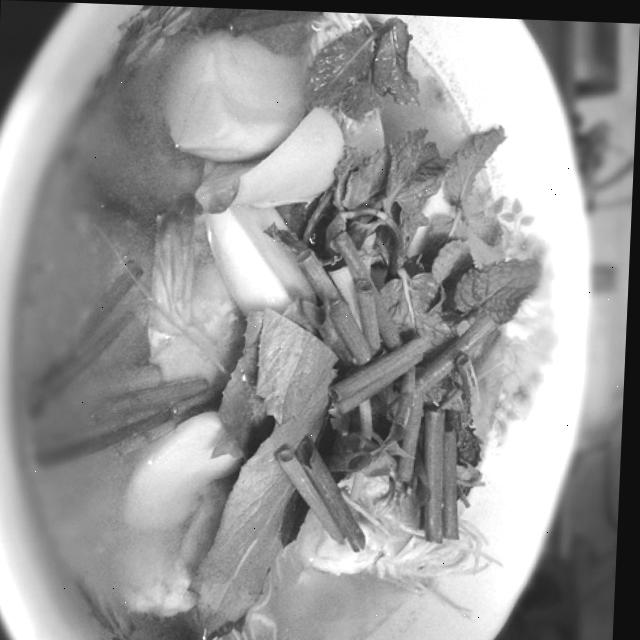汤锅炖物: (0, 6, 576, 640)
